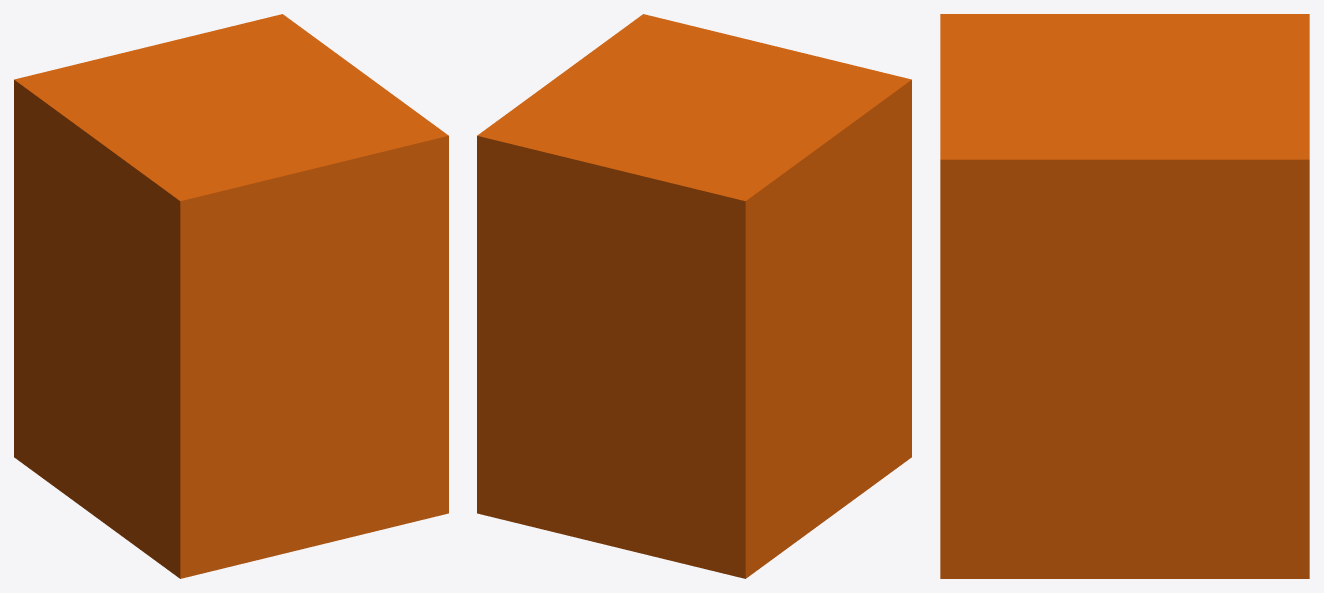
3 views of the same model, side by side, from view 1: azimuth 30°, elevation 25°; view 2: azimuth 150°, elevation 25°; view 3: azimuth 270°, elevation 25° (orthographic). The views are drawn at different scales.
Parts seen in each view (by area): view 1: Cube; view 2: Cube; view 3: Cube.
Boxes of the visible parts, bbox=[...] form: Cube: bbox=[14, 14, 448, 578]; Cube: bbox=[477, 14, 911, 578]; Cube: bbox=[940, 14, 1309, 578].
Bounding box in the file's own units: 0.2173 × 0.292 × 0.233.
